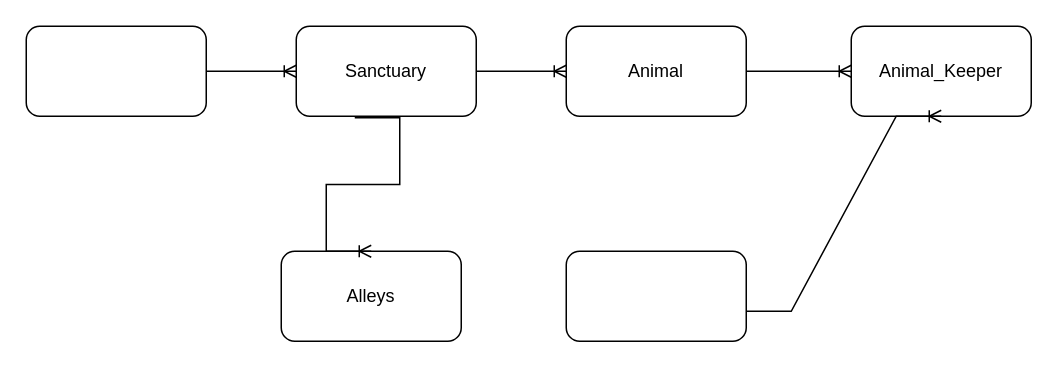
This 1058x368 diagram has some shape labels left out. Each missing label, with the centre of its shape:
Keeper: [655,295]
Town: [115,70]
